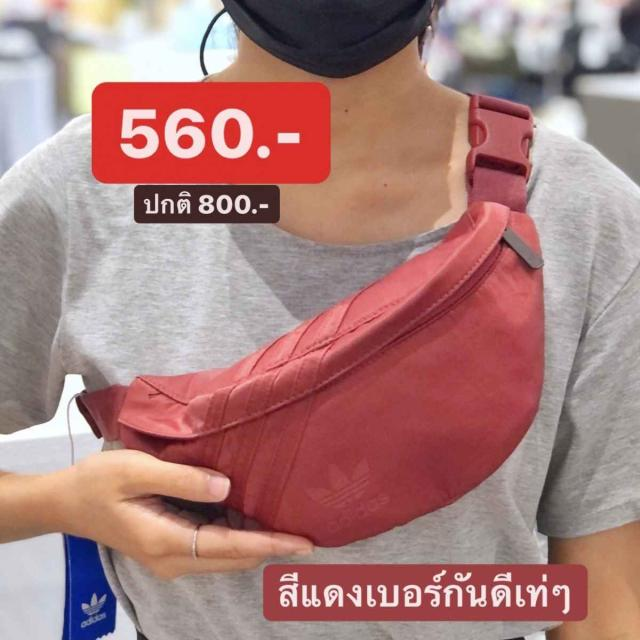handbag: (72, 196, 548, 550)
